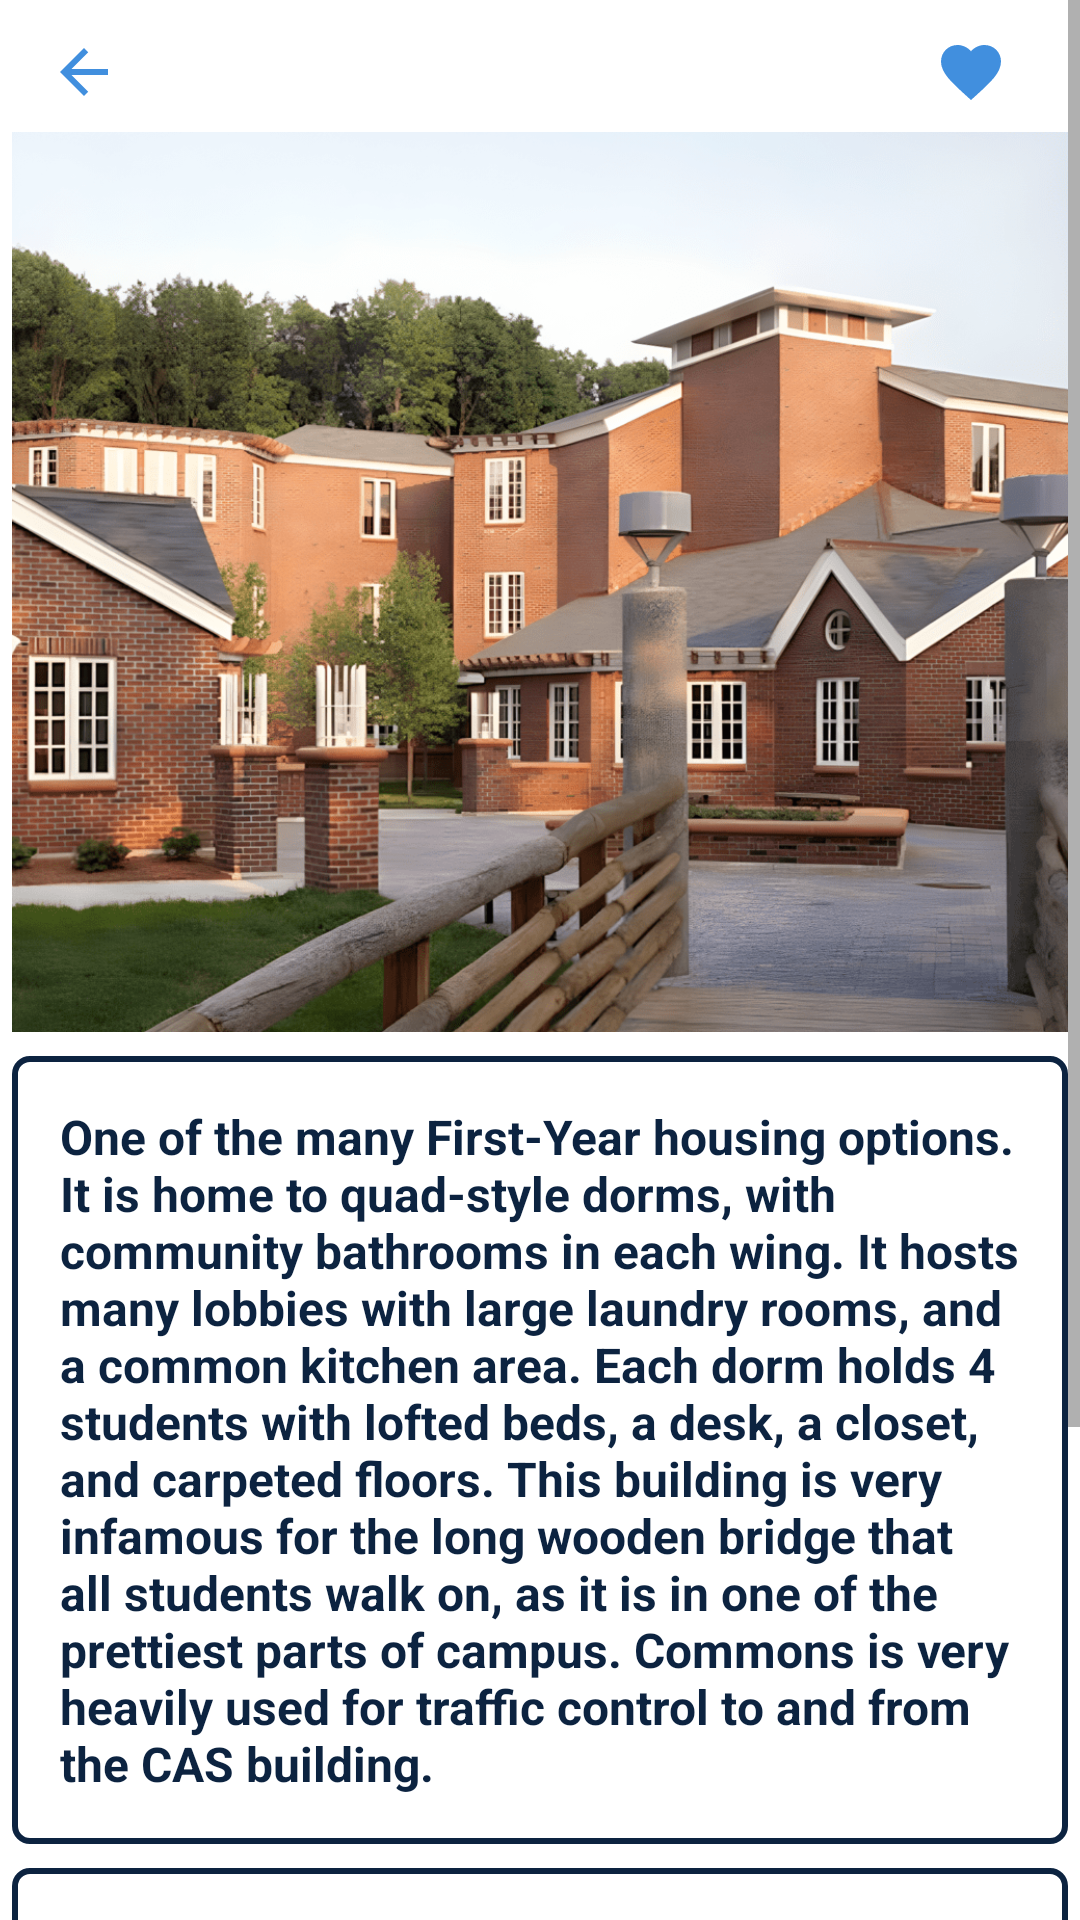

Icon bounding boxes for this 1080px x 1920px phone screenshot, format bbox=(x1, y1, x2, y2):
Back: bbox=(60, 48, 108, 96)
